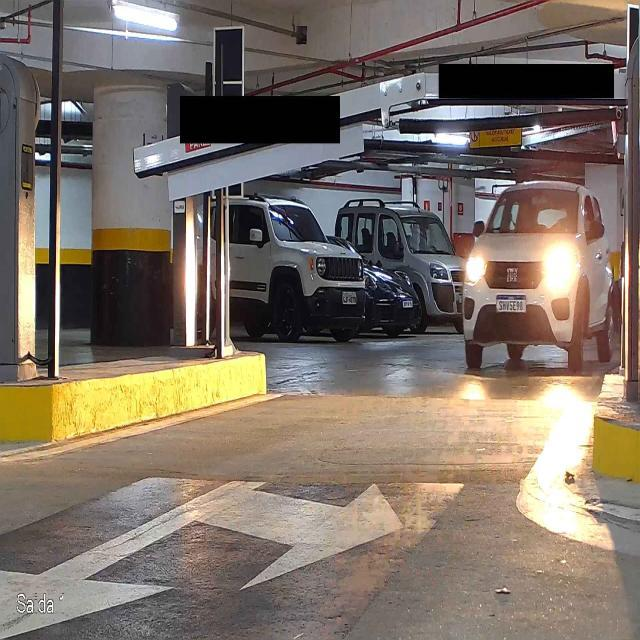mercosul_plate: (495, 294, 528, 313)
